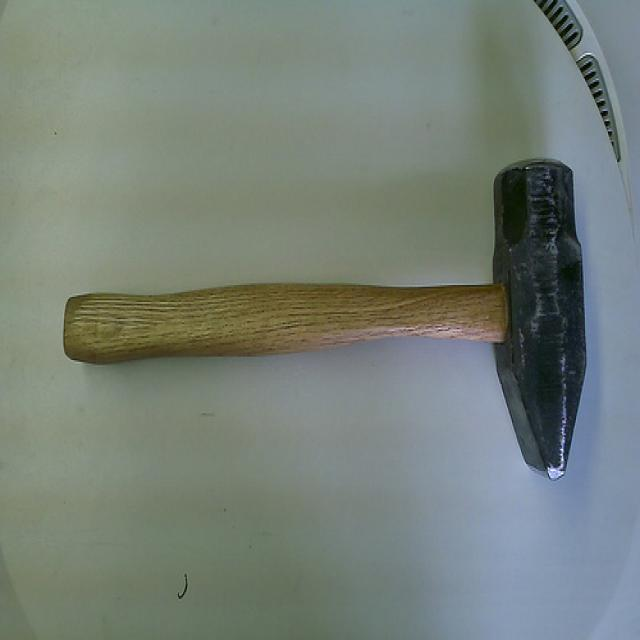hammer: (54, 150, 594, 488)
